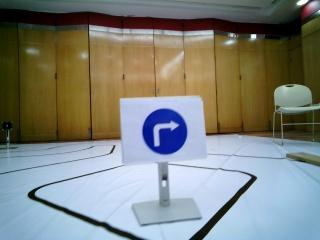right: (122, 98, 205, 158)
